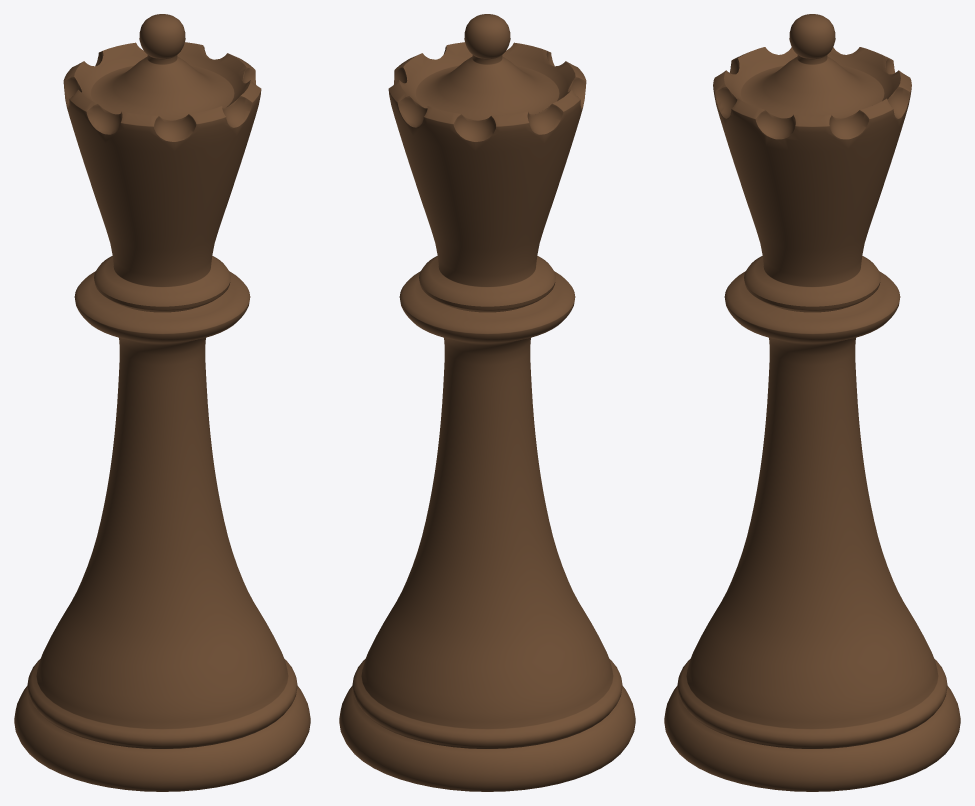
Rendered from black-queen.glb.
3 views of the same model, side by side, from view 1: azimuth 30°, elevation 25°; view 2: azimuth 150°, elevation 25°; view 3: azimuth 270°, elevation 25° (orthographic).
Visible parts, largest first — view 1: black-queen.001; view 2: black-queen.001; view 3: black-queen.001.
Part boxes in pixels (box(x1,y1,x2,y2)): black-queen.001: box(14, 14, 310, 791); black-queen.001: box(339, 14, 635, 791); black-queen.001: box(664, 14, 960, 791).
Size of the model in its own units: 0.612 by 1.63 by 0.612.
